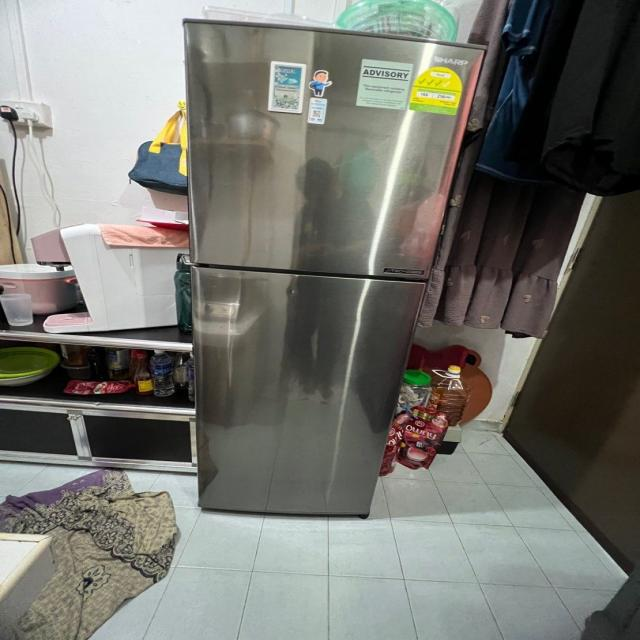refrigerator: (181, 17, 486, 521)
